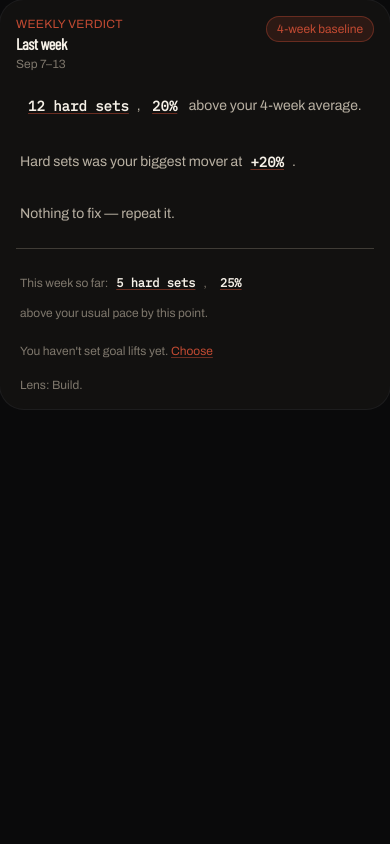
WeeklyVerdictCard goal lifts › opens the goal lift picker from the "Choose" action
Click the button "Choose".
click(192, 351)  # box [171, 329, 213, 373]
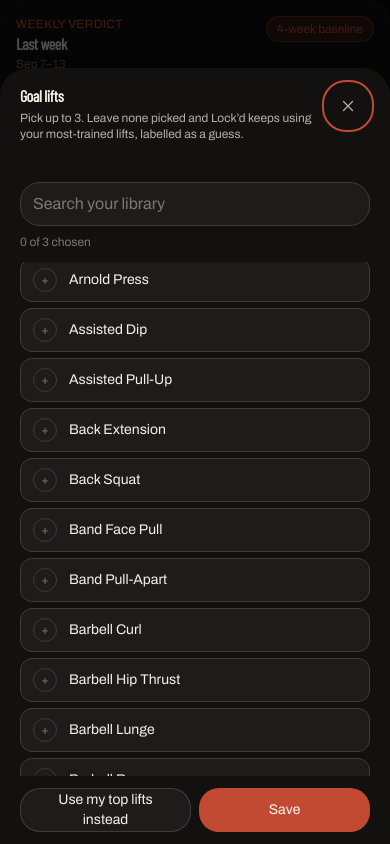
Expected: the dialog "Goal lifts" is shown
